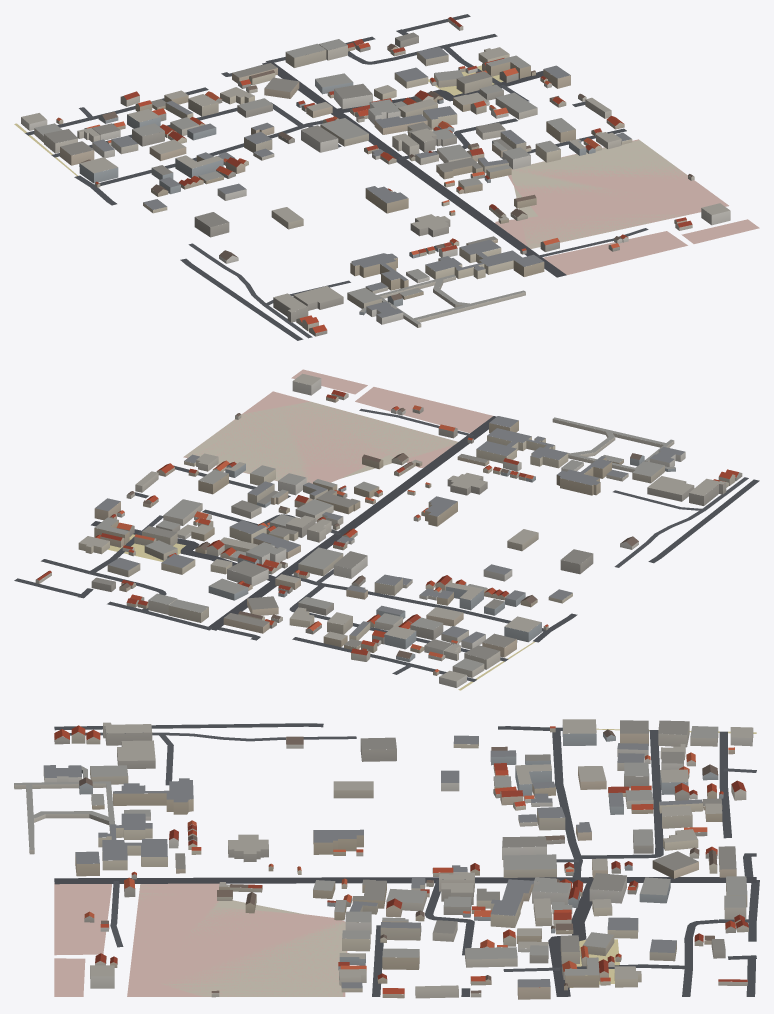
3 renders of one model, top to bottom at view 1: azimuth 30°, elevation 25°; view 2: azimuth 150°, elevation 25°; view 3: azimuth 270°, elevation 25°, orthographic. The views are drawn at different scales.
Visible parts, largest first — view 1: buildings_walls, buildings_roofs, landuse, roads; view 2: buildings_walls, buildings_roofs, landuse, roads; view 3: buildings_roofs, buildings_walls, landuse, roads.
Boxes of the visible parts, x1=… form: buildings_walls: x1=21, y1=18, x2=730, y2=336; buildings_roofs: x1=21, y1=17, x2=729, y2=333; landuse: x1=14, y1=65, x2=759, y2=274; roads: x1=25, y1=14, x2=648, y2=340; buildings_walls: x1=35, y1=378, x2=742, y2=687; buildings_roofs: x1=36, y1=373, x2=738, y2=681; landuse: x1=108, y1=369, x2=534, y2=690; roads: x1=14, y1=408, x2=759, y2=681; buildings_roofs: x1=14, y1=719, x2=753, y2=993; buildings_walls: x1=14, y1=723, x2=753, y2=999; landuse: x1=54, y1=728, x2=756, y2=996; roads: x1=54, y1=723, x2=759, y2=996.
Bounding box in the file's own units: 466 × 9.59 × 531.
